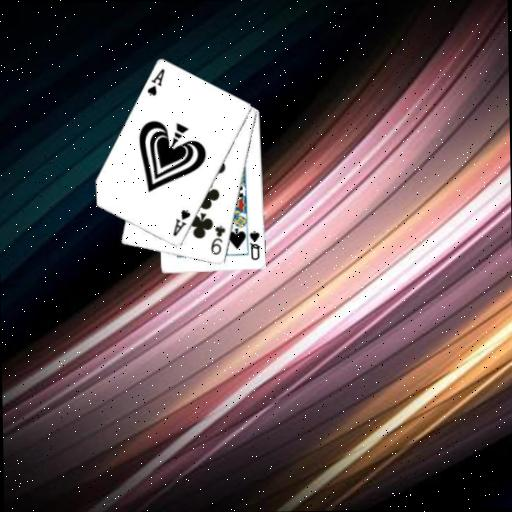9C: (207, 223, 228, 257)
AS: (169, 207, 193, 239), (144, 66, 168, 98)
QS: (247, 228, 263, 262)
